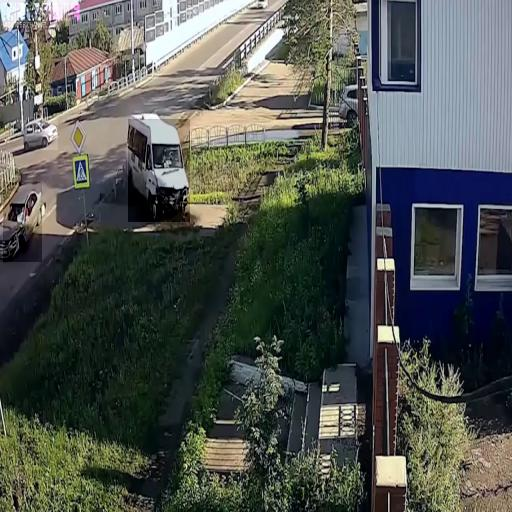小汽车: (128, 119, 190, 222), (3, 182, 42, 262), (26, 117, 58, 150)
